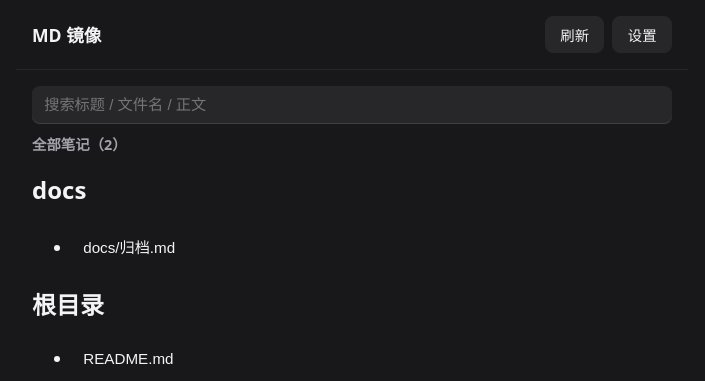
Test: 首页全局搜索（集成） › 输入标题片段 → 仅显示命中项：文件名主行 + H 徽标标题行
The width and height of the screenshot is (705, 381).
Type "排障" into the search field with class "search-input" at [352, 105], box [32,86,672,123]
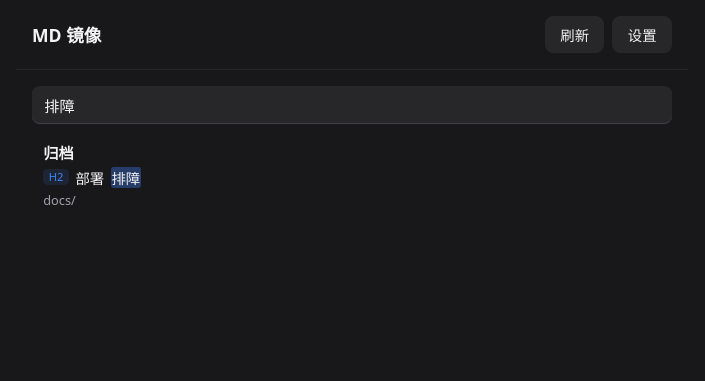
Expected: the number of elements with class "search-item" is 1, [43,141,141,209]
Expected: the text "README.md" is gone
